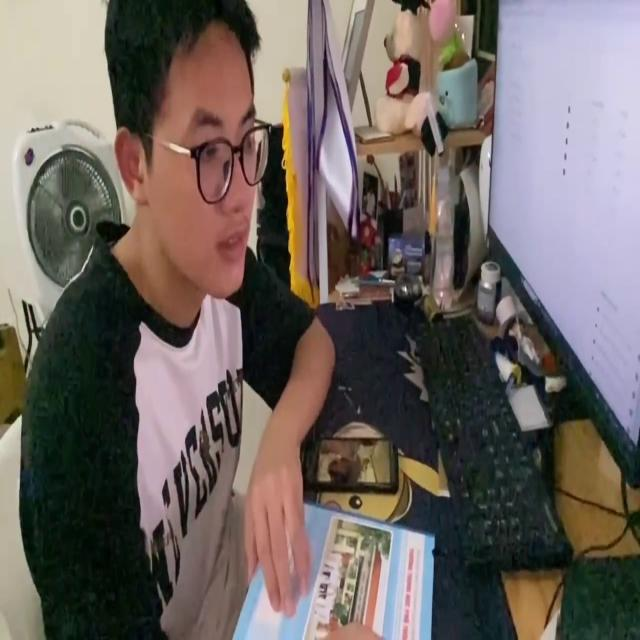book: (232, 498, 434, 640)
laptop: (485, 2, 640, 486)
phone: (301, 430, 399, 502)
student: (20, 0, 337, 640)
